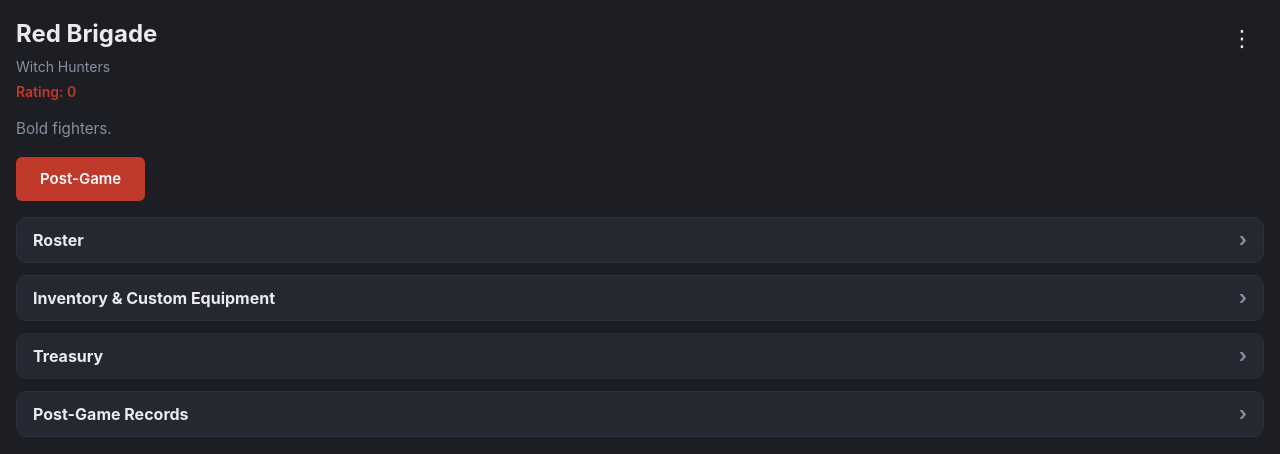
Test case: WarbandDetailPage › shows ⋮ menu with Edit and Delete options when button clicked
Click the button named "warband actions": click(1242, 38) [1220,16,1264,60]
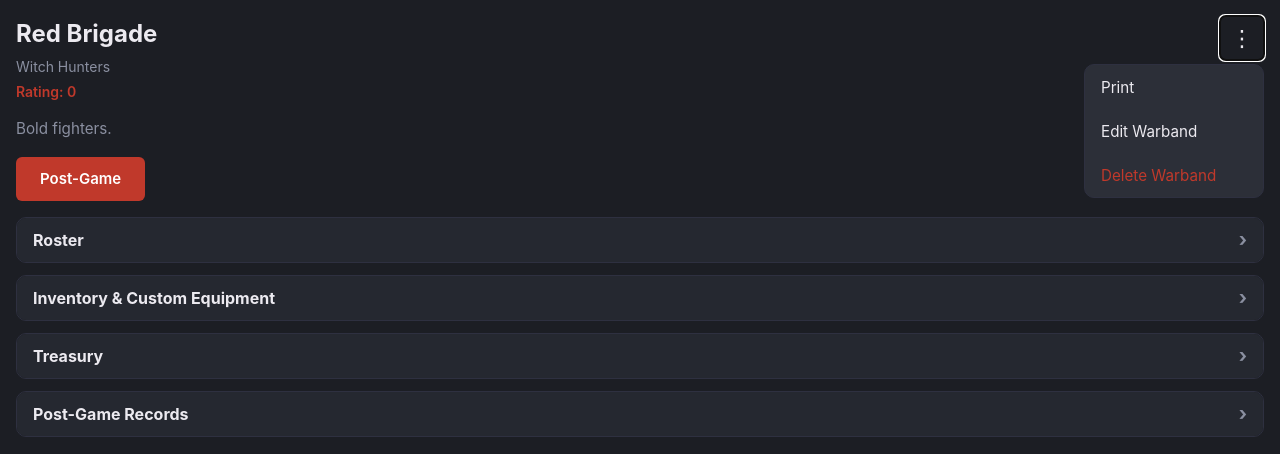
Expected: the menu item "Edit Warband" is shown, [1085,109,1263,153]
Expected: the menu item "Delete Warband" is shown, [1085,153,1263,197]
